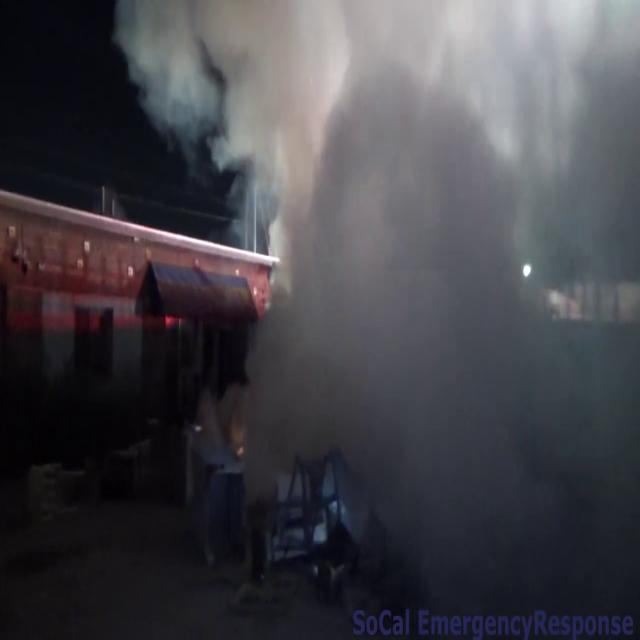Smoke: (215, 0, 640, 502)
